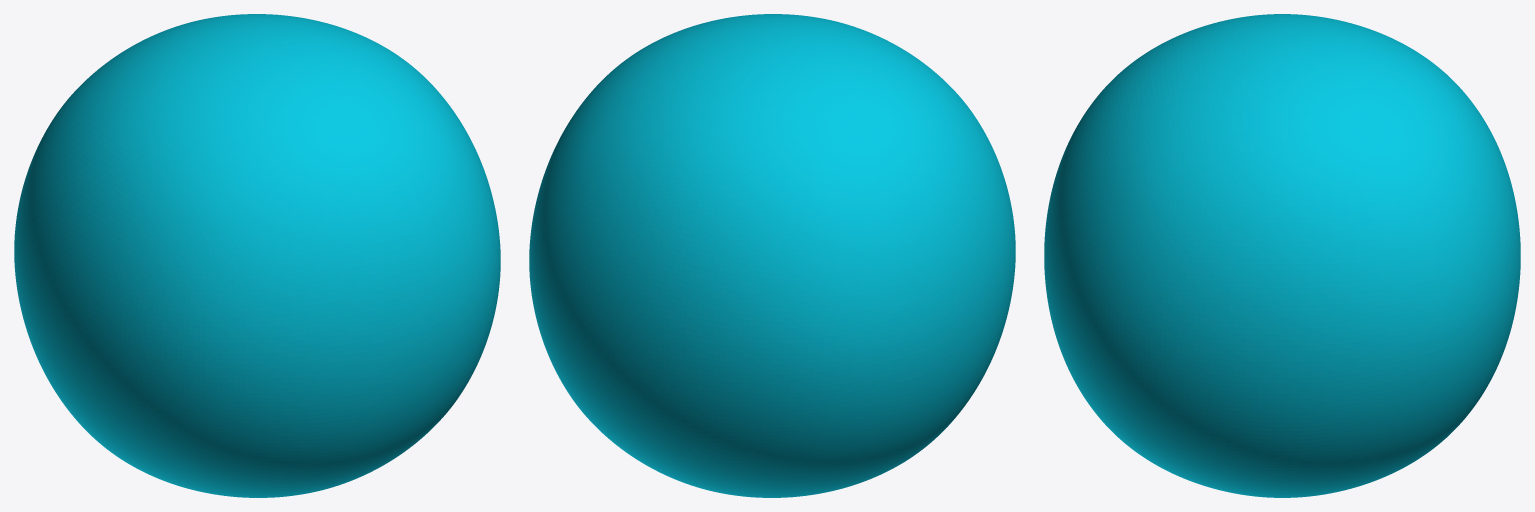
Rendered from basic_cell.fbx.
3 renders of one model, left to right at view 1: azimuth 30°, elevation 25°; view 2: azimuth 150°, elevation 25°; view 3: azimuth 270°, elevation 25°, orthographic.
Visible parts, largest first — view 1: Cube; view 2: Cube; view 3: Cube.
Boxes of the visible parts, <box> form: Cube: <box>14,14,500,497</box>; Cube: <box>529,14,1015,497</box>; Cube: <box>1044,14,1520,497</box>.
Size of the model in its own units: 168 by 168 by 168.
